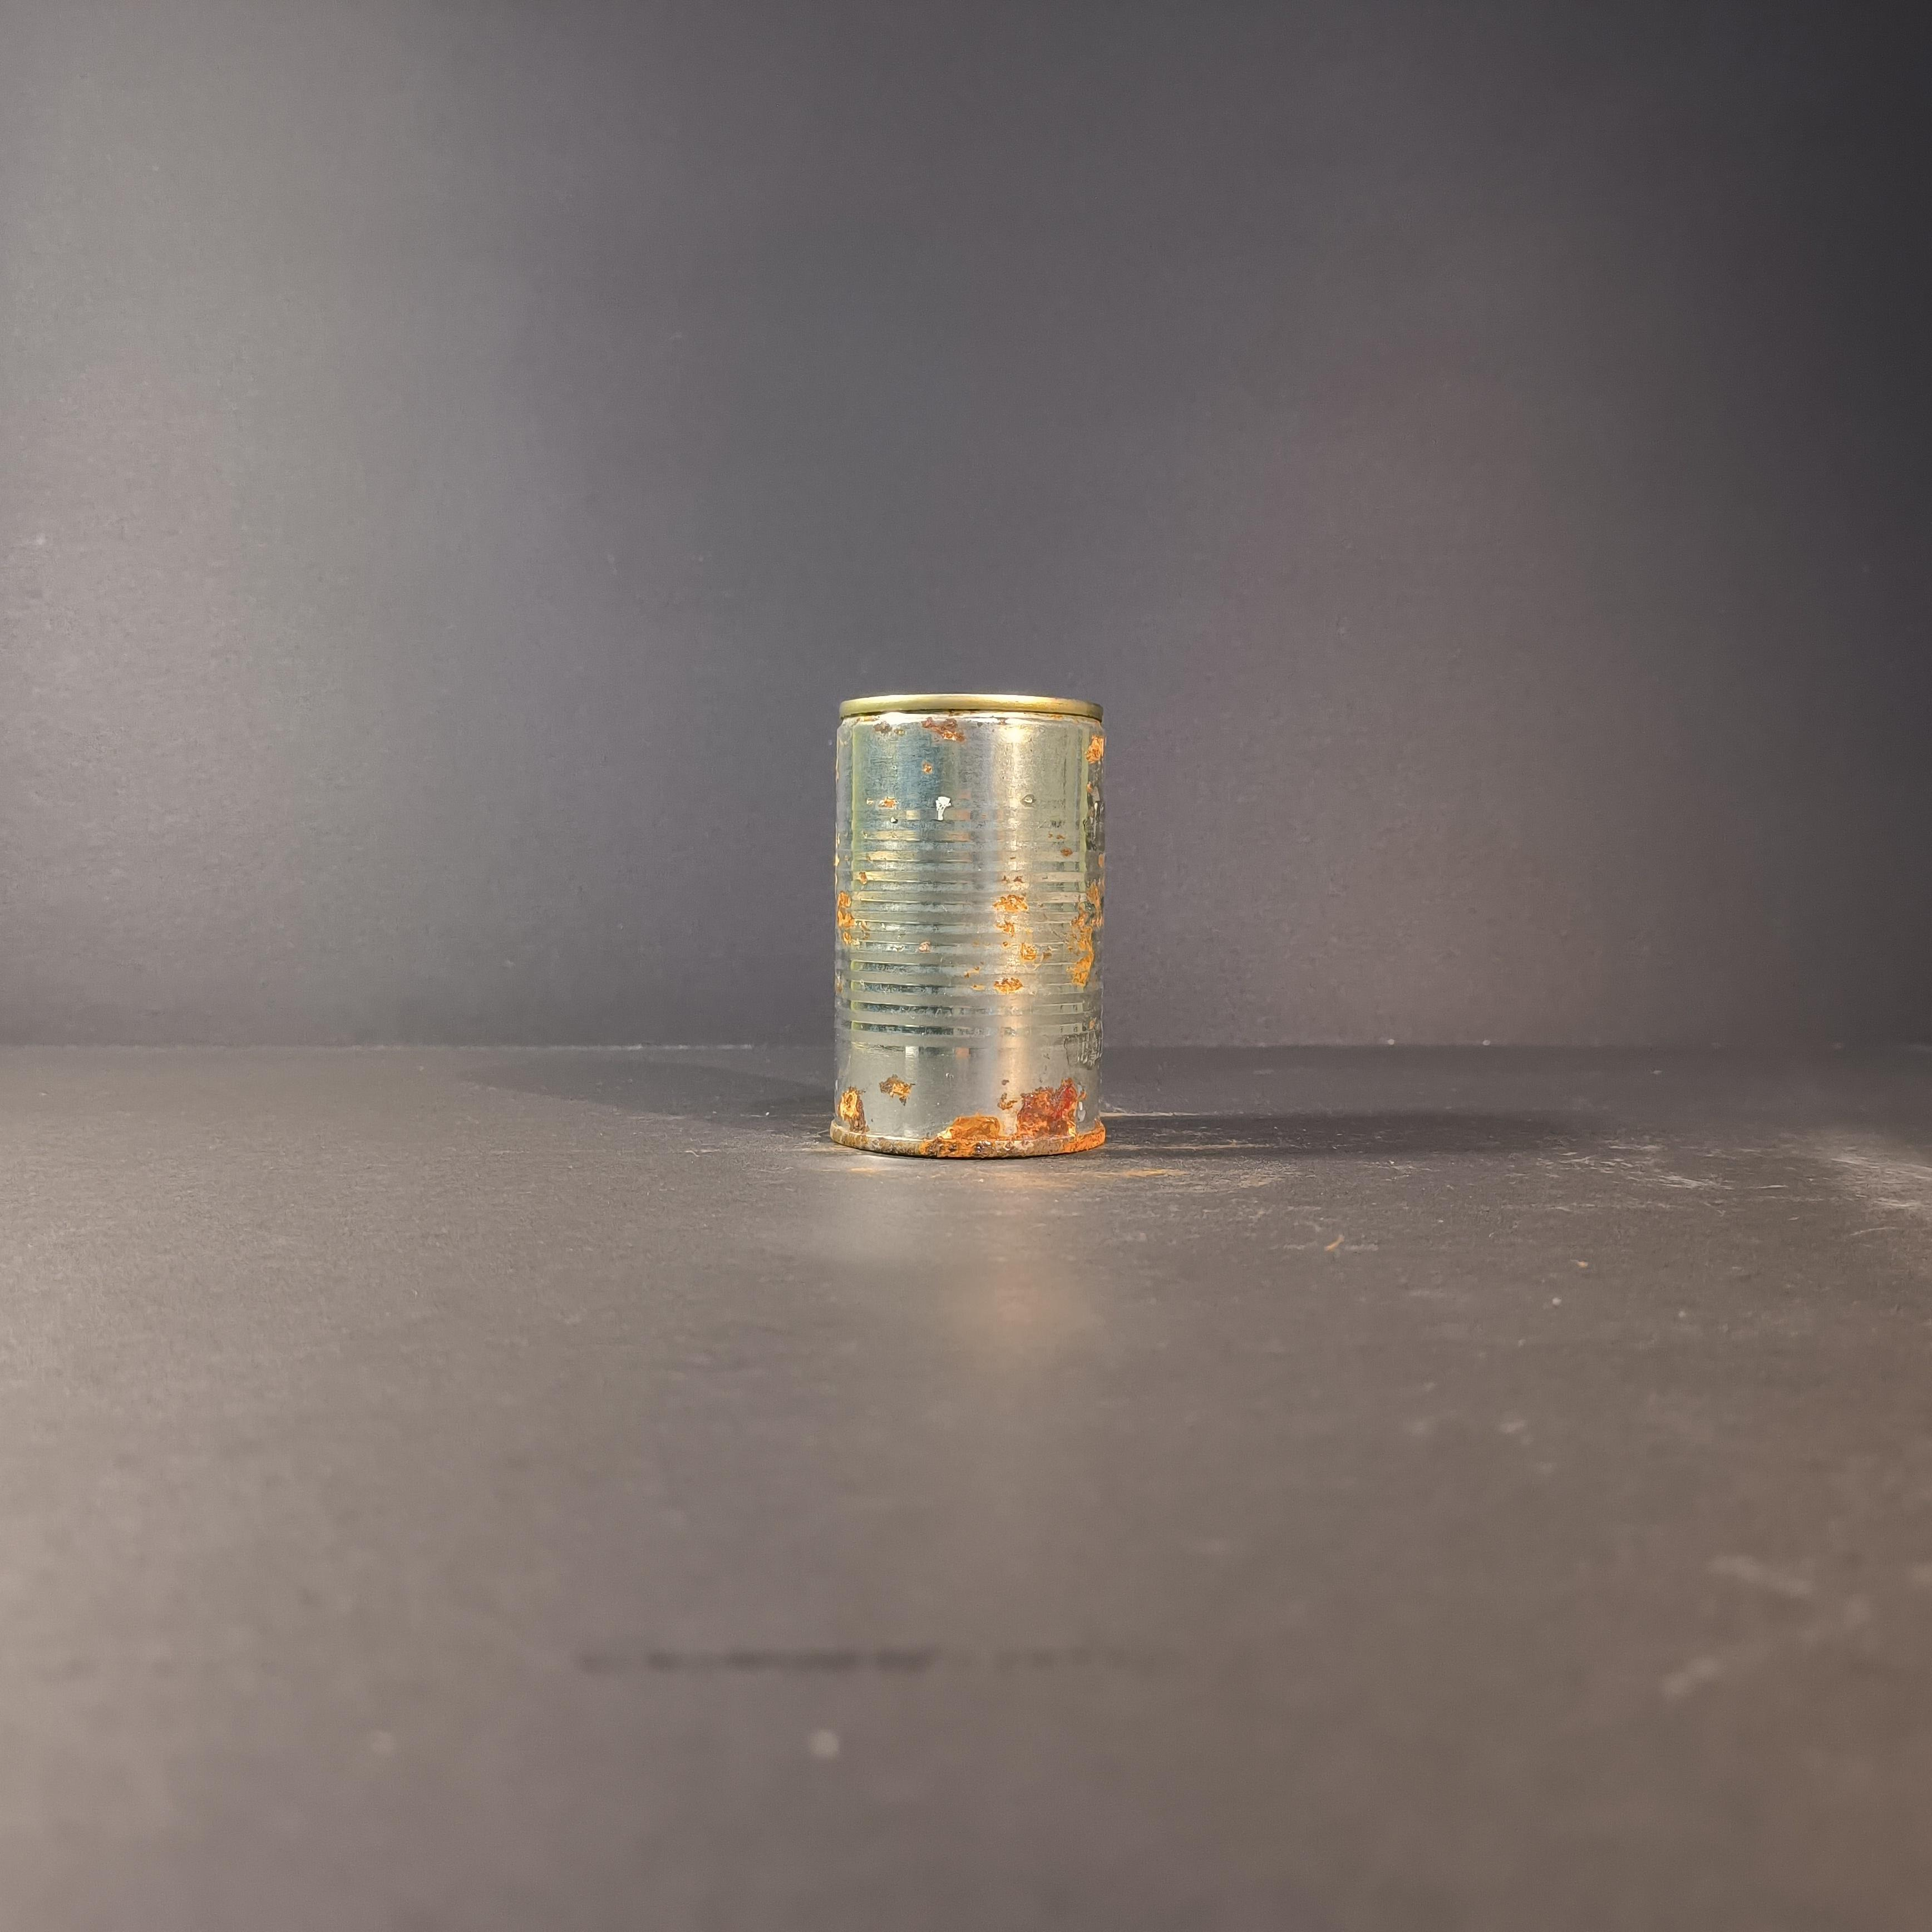Rusted: (803, 665, 1129, 1177)
